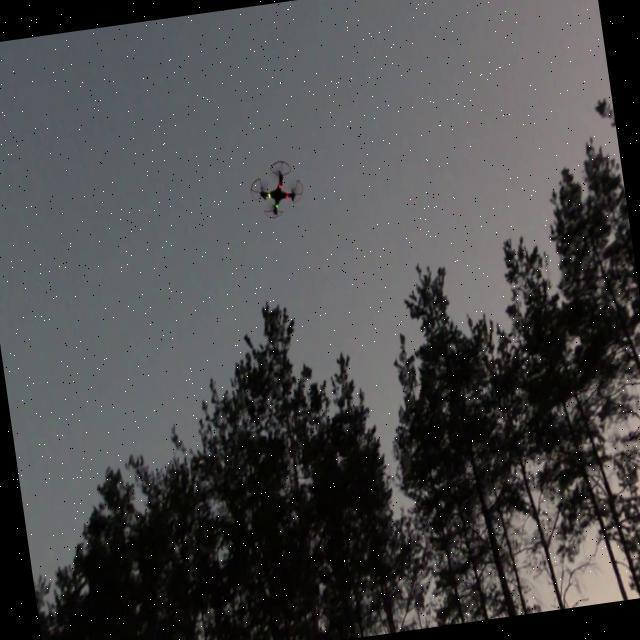Drons: (240, 151, 310, 227)
